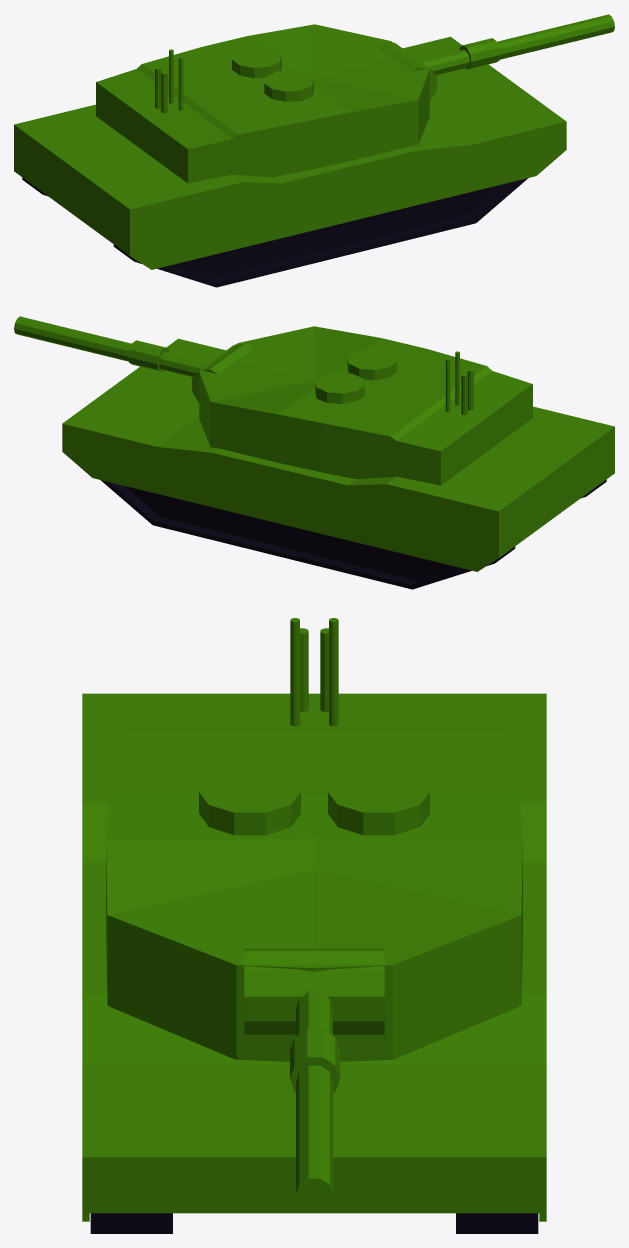
The model's file is Abrams.fbx.
3 renders of one model, top to bottom at view 1: azimuth 30°, elevation 25°; view 2: azimuth 150°, elevation 25°; view 3: azimuth 270°, elevation 25°, orthographic. The views are drawn at different scales.
Visible parts, largest first — view 1: Hull, Cube, TrackLeft, Barrel; view 2: Hull, Cube, TrackLeft, Barrel; view 3: Cube, Hull, Barrel, TrackLeft.
Part boxes in pixels (x1,y1,x2,y2): Hull: (14,36,566,269); Cube: (96,24,429,183); TrackLeft: (22,177,528,287); Barrel: (376,14,614,100); Hull: (62,338,614,571); Cube: (199,326,532,485); TrackLeft: (100,479,606,589); Barrel: (14,316,252,402); Cube: (106,618,522,1061); Hull: (82,693,546,1221); Barrel: (244,948,384,1210); TrackLeft: (90,1213,538,1233).
Size of the model in its own units: 455 by 1217 by 408.
